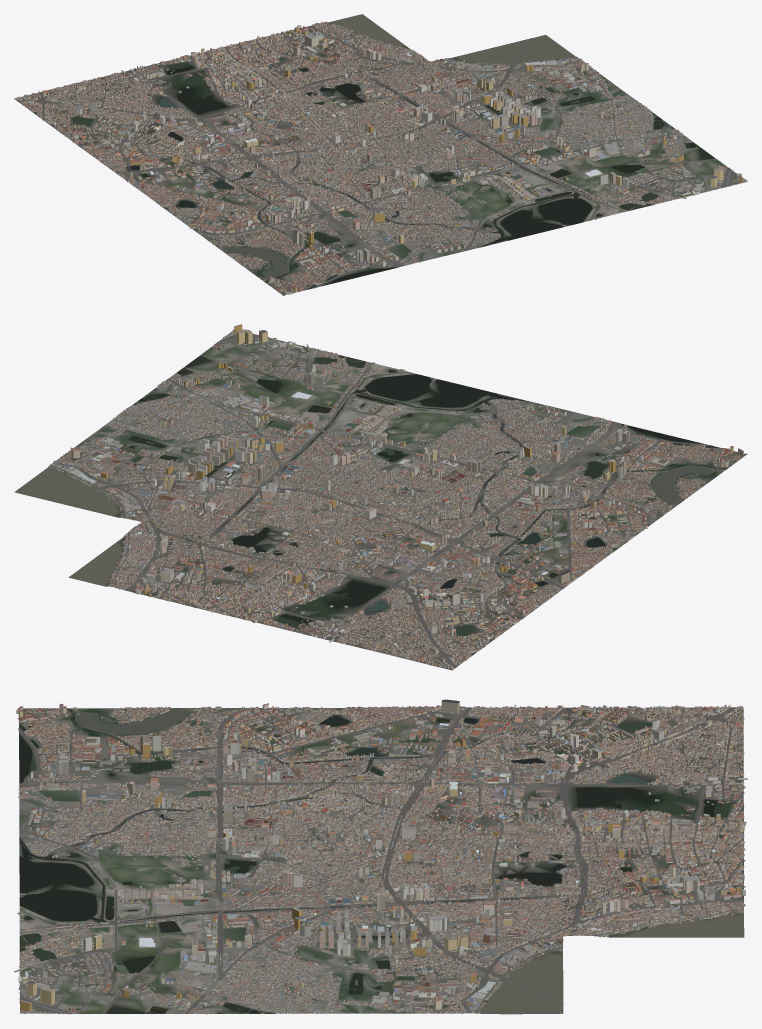
3 views of the same model, one above another, from view 1: azimuth 30°, elevation 25°; view 2: azimuth 150°, elevation 25°; view 3: azimuth 270°, elevation 25° (orthographic). The views are drawn at different scales.
Parts seen in each view (by area): view 1: buildings, ground, water, roads; view 2: buildings, ground, water, roads; view 3: buildings, ground, roads, water.
Boxes of the visible parts, box(x1,y1,x2,y2) form: buildings: box(14, 21, 746, 294); ground: box(15, 22, 747, 295); water: box(63, 14, 715, 289); roads: box(16, 24, 733, 295); buildings: box(48, 324, 743, 669); ground: box(14, 331, 746, 669); water: box(17, 346, 726, 647); roads: box(30, 334, 747, 670); buildings: box(14, 699, 747, 1014); ground: box(19, 707, 744, 1014); roads: box(18, 707, 745, 1014); water: box(19, 707, 743, 1013).
Size of the model in its own units: 5637 by 143 by 5681.
